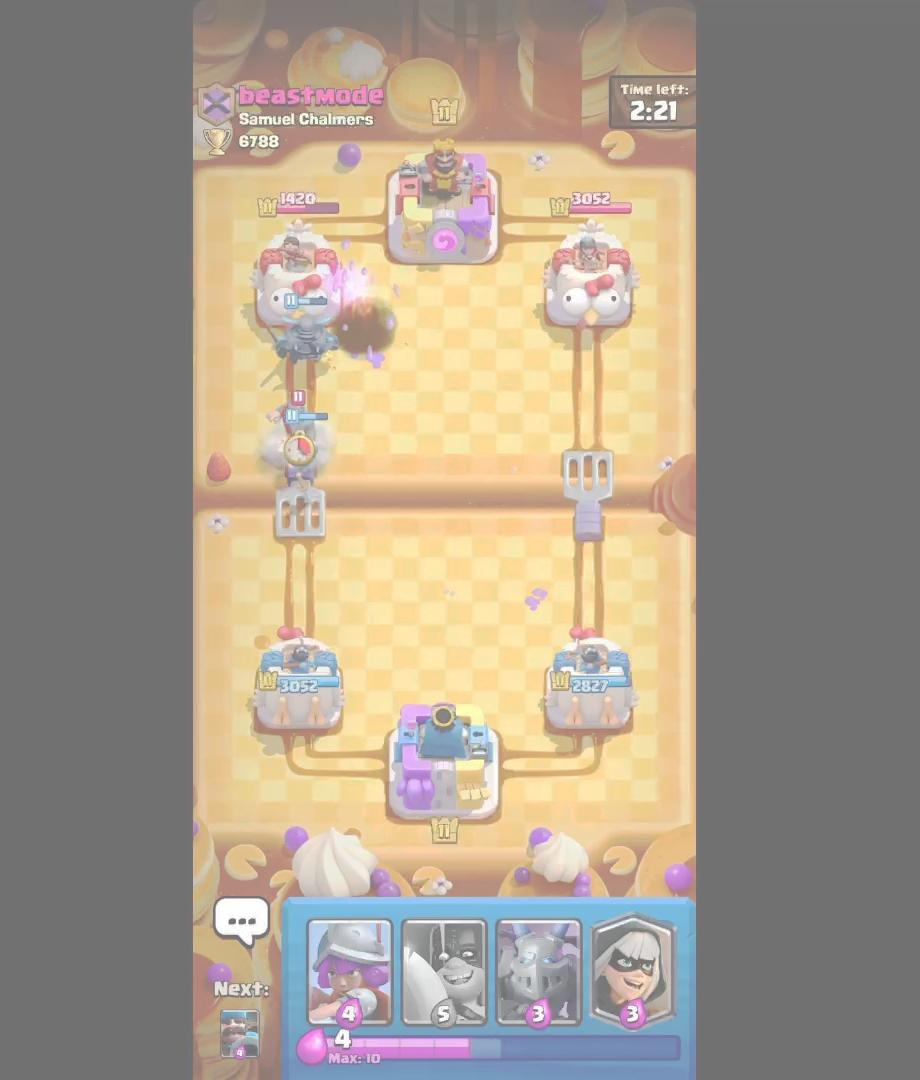Knight: (263, 388, 321, 437)
